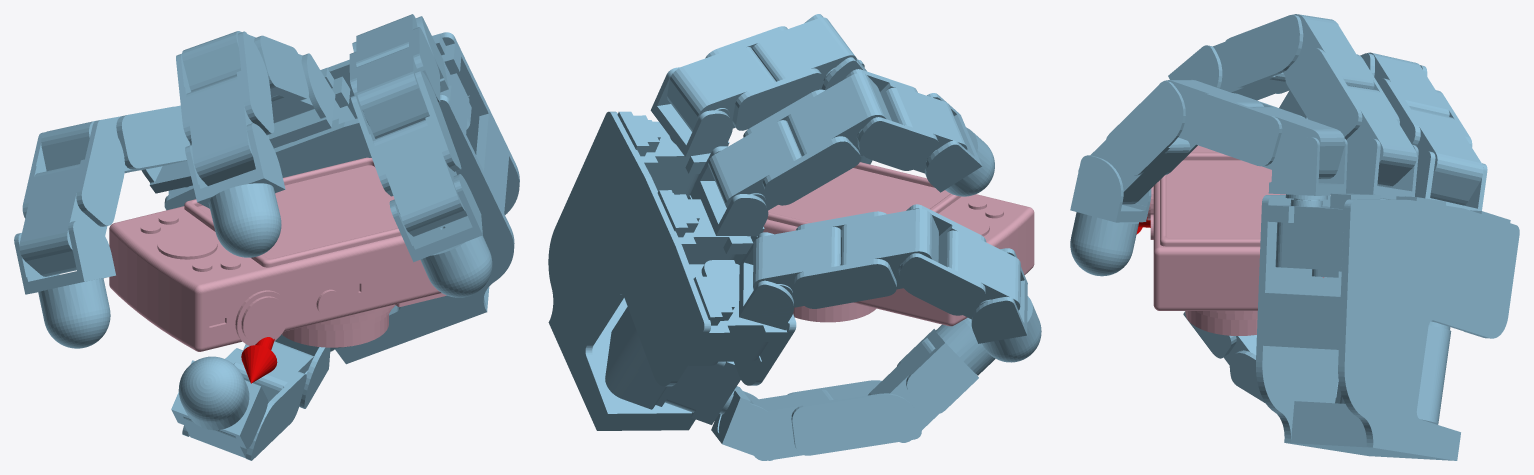
3 views of the same model, side by side, from view 1: azimuth 30°, elevation 25°; view 2: azimuth 150°, elevation 25°; view 3: azimuth 270°, elevation 25° (orthographic). The views are drawn at different scales.
Visible parts, largest first — view 1: world, camera.stl; view 2: world, camera.stl; view 3: world, camera.stl.
Boxes of the visible parts, box(x1,y1,x2,y2) form: world: box(14, 14, 519, 460); camera.stl: box(109, 157, 446, 351); world: box(548, 14, 1041, 460); camera.stl: box(763, 162, 1034, 326); world: box(1070, 14, 1519, 460); camera.stl: box(1147, 145, 1324, 335).
Bounding box in the file's own units: 0.2091 × 0.1631 × 0.1699.
